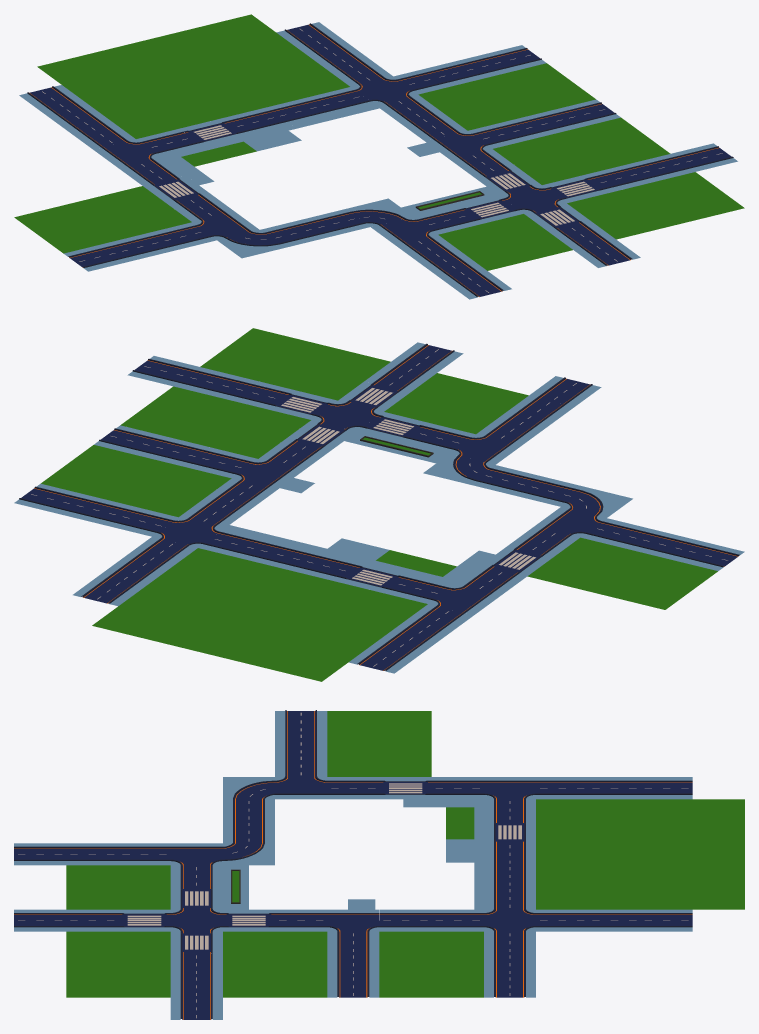
The model's file is Ground 1.fbx.
3 renders of one model, top to bottom at view 1: azimuth 30°, elevation 25°; view 2: azimuth 150°, elevation 25°; view 3: azimuth 270°, elevation 25°, orthographic. The views are drawn at different scales.
Parts seen in each view (by area): view 1: ground.005, ground.004, ground.007, ground.006, ground.003, ground.008, road, road.004, road.013, road.011, road.009, road.007 (+26 smaller); view 2: ground.005, ground.006, ground.003, ground.004, ground.007, ground.008, road, road.013, road.004, road.009, road.011, road.001 (+26 smaller); view 3: ground.005, ground.007, ground.003, ground.004, ground.006, ground.008, road.001, road.014, road.007, road.011, road.009, road.004 (+26 smaller).
Boxes of the visible parts, x1,y1,x2,y2 form: ground.005: (37, 14, 349, 138); ground.004: (493, 117, 670, 184); ground.007: (567, 172, 744, 239); ground.006: (14, 186, 191, 253); ground.003: (418, 63, 595, 130); ground.008: (438, 214, 572, 270); road: (222, 87, 374, 136); road.004: (64, 222, 216, 271); road.013: (393, 45, 546, 94); road.011: (468, 99, 620, 148); road.009: (585, 143, 737, 192); road.007: (395, 235, 511, 299); ground.005: (92, 548, 427, 681); ground.006: (527, 537, 717, 609); ground.003: (41, 445, 231, 517); ground.004: (120, 386, 310, 458); ground.007: (200, 328, 390, 400); ground.008: (384, 373, 528, 434); road: (198, 528, 362, 581); road.013: (14, 483, 177, 536); road.004: (581, 518, 744, 571); road.009: (127, 356, 291, 408); road.011: (94, 425, 257, 478); road.001: (349, 604, 473, 673); ground.005: (536, 799, 744, 909); ground.007: (66, 931, 170, 997); ground.003: (379, 931, 483, 997); ground.004: (223, 931, 327, 997); ground.006: (327, 711, 431, 776); ground.008: (66, 865, 170, 909); road.001: (536, 777, 692, 799); road.014: (536, 909, 692, 931); road.007: (14, 843, 170, 865); road.011: (327, 930, 379, 997); road.009: (170, 953, 222, 1019); road.004: (275, 710, 327, 776).
Bounding box in the file's own units: 21001 × 21001 × 41.25.
